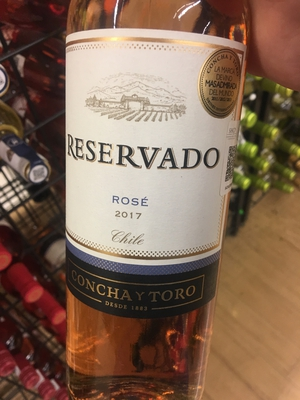reservado rose: (59, 3, 245, 373)
